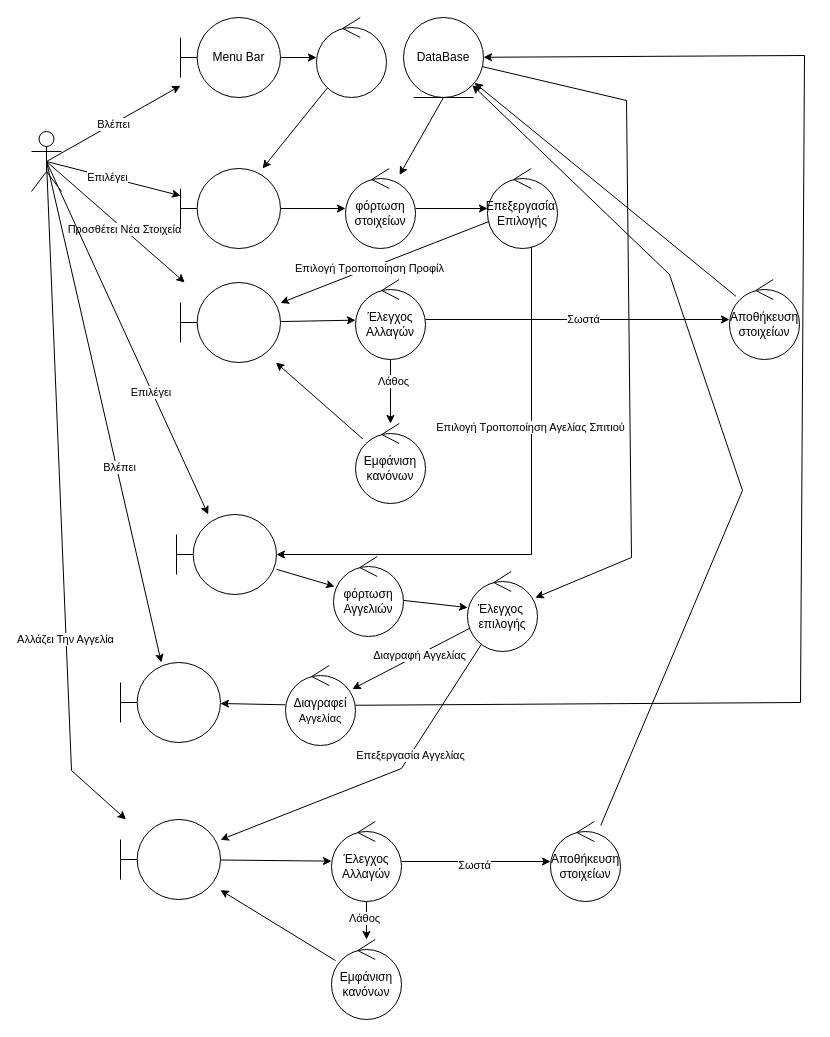
Some shapes in this 830 by 1037 pixel diagram are drawn without their labels. Here are the shapes that lost their labels. From the top down, the centre of each, then its label:
pixel 351 57: Φόρτωση Οθόνης Ρυθμίσεων
pixel 46 161: User
pixel 230 208: Οθόνη Ρυθμίσεων
pixel 230 322: Οθόνη Τροποποίηση Προφίλ
pixel 226 554: Οθόνη Menu Τροποποίηση Αγγελίας
pixel 170 702: Οθόνη Διαγραφής Αγγελίας
pixel 170 859: Οθόνη Επεξεργασίας Αγγελίας
